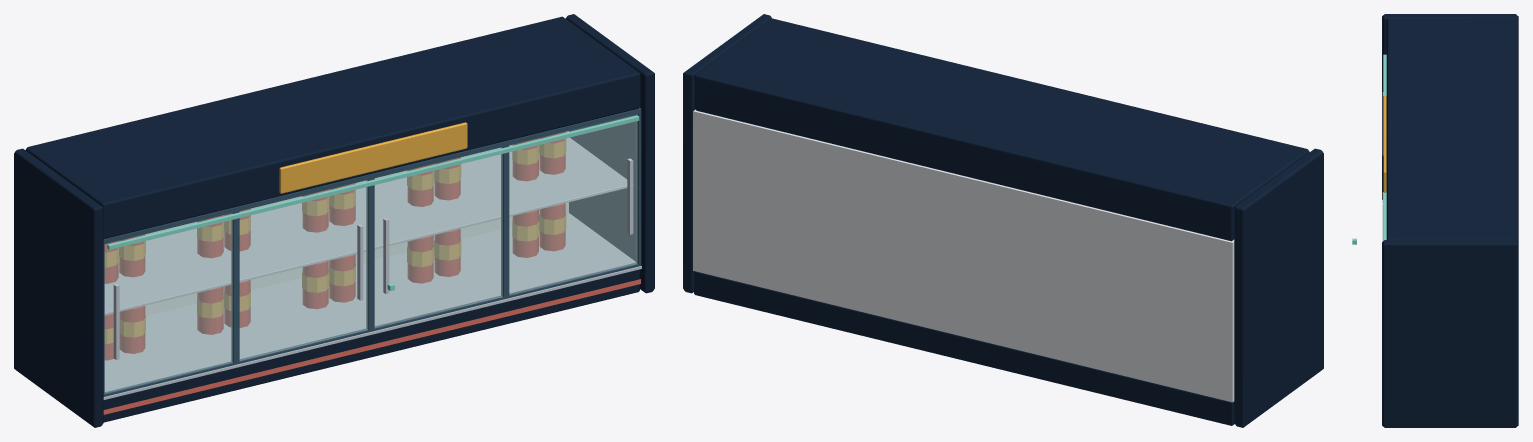
File: CM_Fixture_DrinkCooler.fbx
3 views of the same model, side by side, from view 1: azimuth 30°, elevation 25°; view 2: azimuth 150°, elevation 25°; view 3: azimuth 270°, elevation 25° (orthographic). The views are drawn at different scales.
Visible parts, largest first — view 1: Body, Glass, PriceTag, LightStrip, Item4, Item5, Item3, Item2, Item9, Item10, Item8, Item1 (+2 smaller); view 2: Body; view 3: Body, PriceTag, LightStrip.
Part boxes in pixels (left/top/right/bottom): Body: left=14, top=14, right=654, bottom=427; Glass: left=104, top=114, right=637, bottom=393; PriceTag: left=279, top=122, right=467, bottom=193; LightStrip: left=107, top=115, right=639, bottom=249; Item4: left=407, top=229, right=461, bottom=283; Item5: left=512, top=203, right=566, bottom=257; Item3: left=302, top=254, right=355, bottom=309; Item2: left=197, top=280, right=250, bottom=334; Item9: left=407, top=157, right=461, bottom=206; Item10: left=512, top=132, right=566, bottom=181; Item8: left=302, top=183, right=355, bottom=232; Item1: left=104, top=306, right=145, bottom=360; Body: left=683, top=14, right=1323, bottom=427; Body: left=1382, top=14, right=1518, bottom=427; PriceTag: left=1383, top=95, right=1386, bottom=192; LightStrip: left=1383, top=54, right=1386, bottom=240.
Size of the model in its own units: 24 by 7.3 by 9.
Materials: 2 (2 with a texture image).
